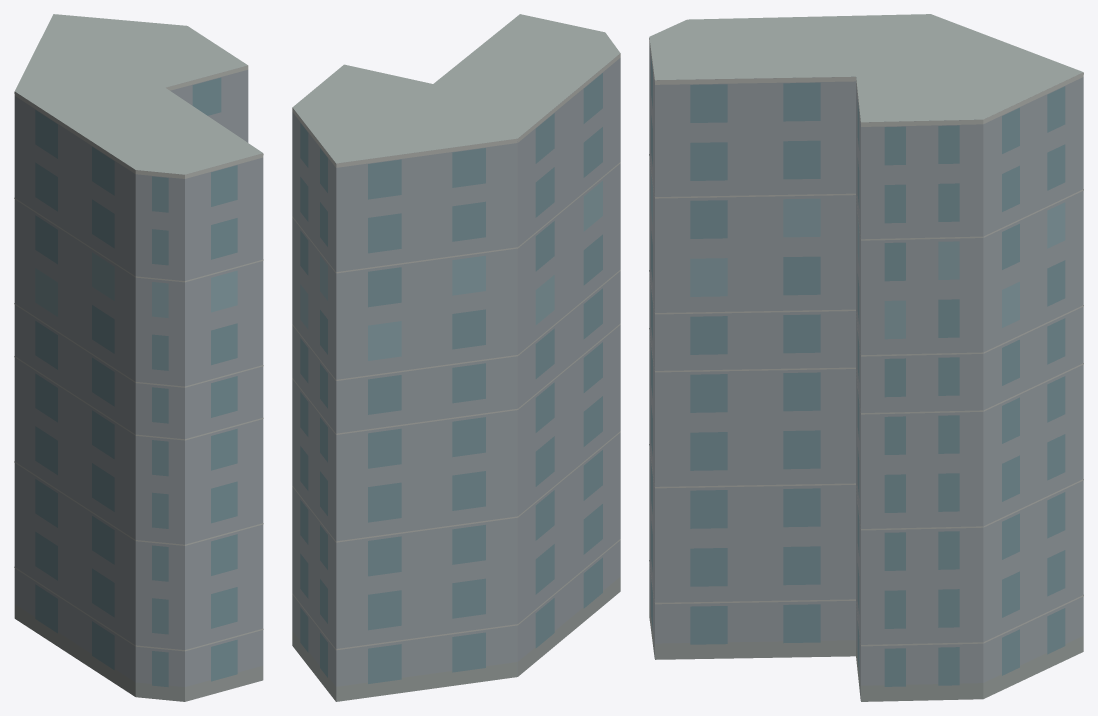
Rendered from survey-upis-32676733.glb.
The picture shows the model from 3 angles, left to right: view 1: azimuth 30°, elevation 25°; view 2: azimuth 150°, elevation 25°; view 3: azimuth 270°, elevation 25°; orthographic projection. The views are drawn at different scales.
Parts seen in each view (by area): view 1: survey-upis-32676733.tmp; view 2: survey-upis-32676733.tmp; view 3: survey-upis-32676733.tmp.
Part boxes in pixels (x1,y1,x2,y2): survey-upis-32676733.tmp: (14,14,263,701); survey-upis-32676733.tmp: (292,14,620,701); survey-upis-32676733.tmp: (649,14,1083,701).
Bounding box in the file's own units: 11.97 × 29.8 × 20.26.
